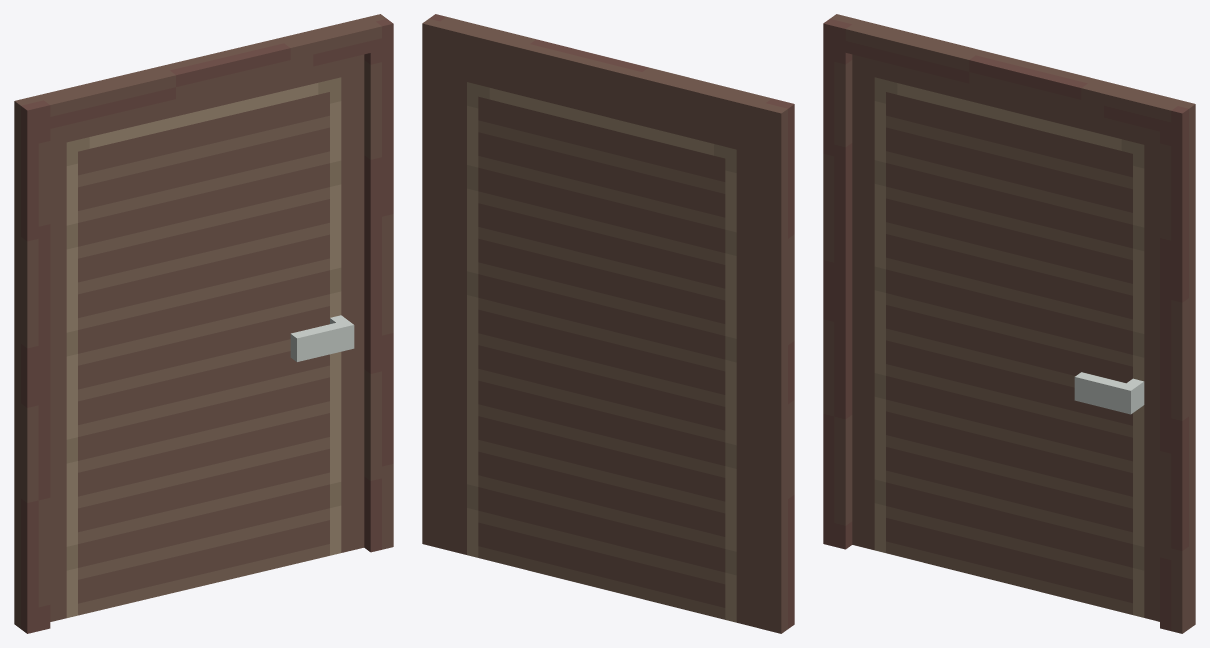
The model's file is door.glb.
The picture shows the model from 3 angles, left to right: view 1: azimuth 30°, elevation 25°; view 2: azimuth 150°, elevation 25°; view 3: azimuth 330°, elevation 25°; orthographic projection.
Visible parts, largest first — view 1: Untitled; view 2: Untitled; view 3: Untitled.
Part boxes in pixels (x1,y1,x2,y2): Untitled: (14, 14, 393, 633); Untitled: (422, 14, 794, 633); Untitled: (823, 14, 1195, 633).
Bounding box in the file's own units: 0.6404 × 0.88 × 0.0666.
1 material, 1 textured.
